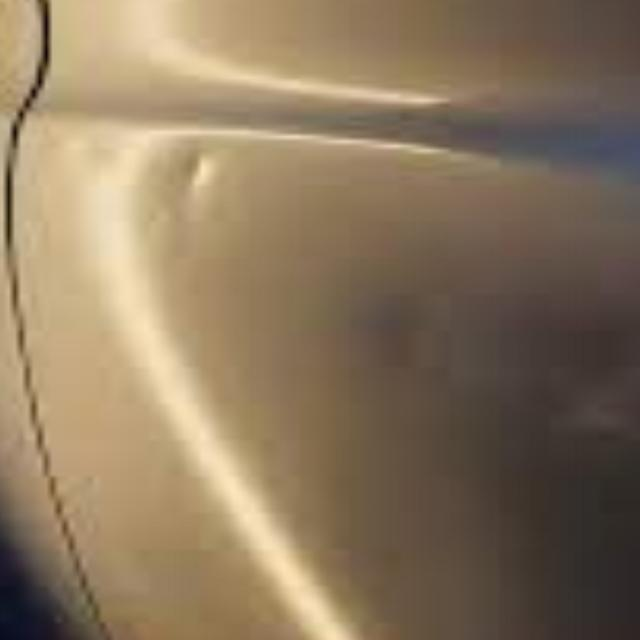dents: (136, 126, 243, 198)
